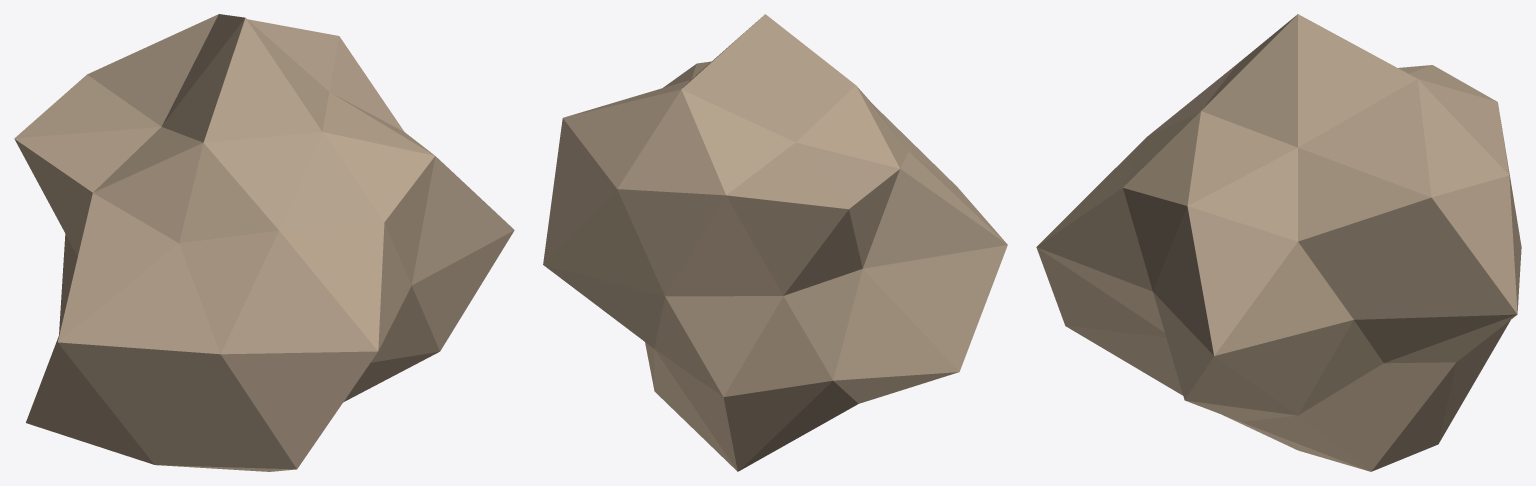
Rendered from rock_ore_copper.glb.
The picture shows the model from 3 angles, left to right: view 1: azimuth 30°, elevation 25°; view 2: azimuth 150°, elevation 25°; view 3: azimuth 270°, elevation 25°; orthographic projection. The views are drawn at different scales.
Parts seen in each view (by area): view 1: rock_ore_copper; view 2: rock_ore_copper; view 3: rock_ore_copper.
Boxes of the visible parts, left/top/right/bottom form: rock_ore_copper: left=14, top=14, right=514, bottom=471; rock_ore_copper: left=543, top=14, right=1007, bottom=471; rock_ore_copper: left=1036, top=14, right=1521, bottom=471.
Size of the model in its own units: 0.8269 by 0.7876 by 0.7702.
